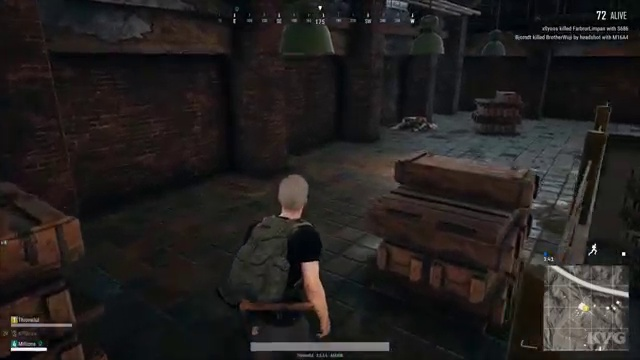Player: (199, 167, 357, 324)
